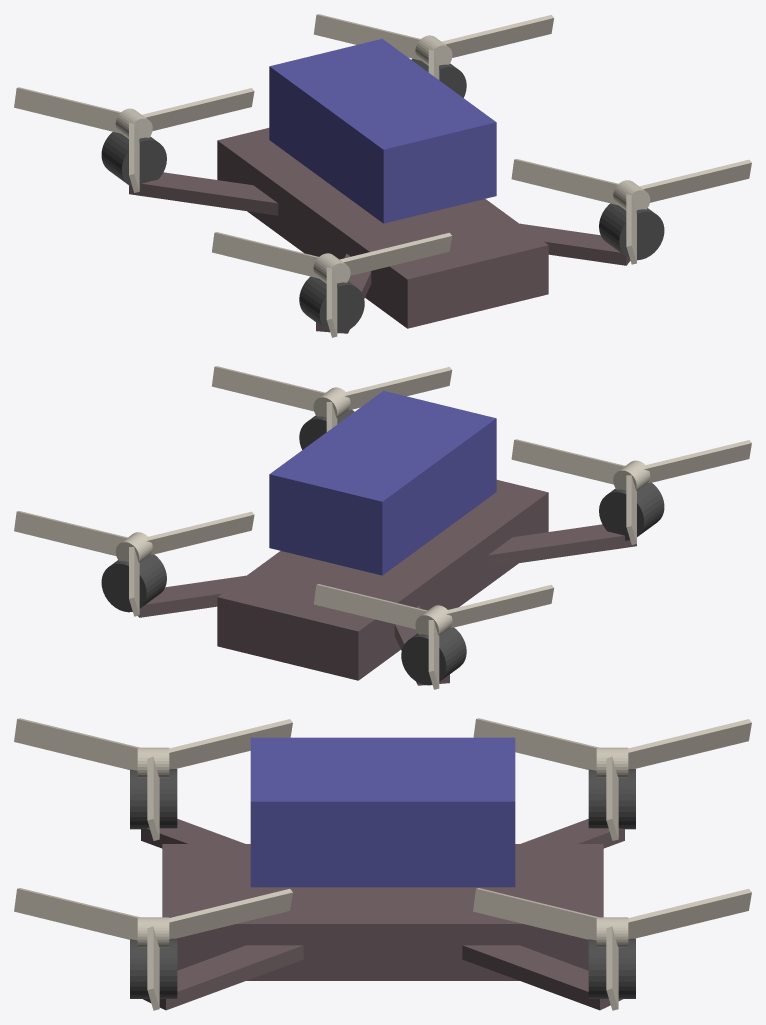
The model's file is Dreadnought.glb.
The picture shows the model from 3 angles, top to bottom: view 1: azimuth 30°, elevation 25°; view 2: azimuth 150°, elevation 25°; view 3: azimuth 270°, elevation 25°; orthographic projection. The views are drawn at different scales.
Parts seen in each view (by area): view 1: battery, frame_body, prop_2, prop_3, prop_0, prop_1, arm_3, motor_2, motor_0, motor_3, arm_0, motor_1; view 2: battery, frame_body, prop_3, prop_1, prop_2, prop_0, arm_2, motor_3, motor_1, motor_2, arm_1, motor_0; view 3: battery, frame_body, prop_0, prop_1, prop_2, prop_3, arm_1, arm_0, motor_2, motor_0, motor_1, motor_3 (+2 smaller).
Boxes of the visible parts, box(x1,y1,x2,y2) form: battery: box(269, 38, 496, 223); frame_body: box(217, 128, 548, 328); prop_2: box(212, 232, 452, 337); prop_3: box(14, 87, 254, 192); prop_0: box(511, 159, 751, 264); prop_1: box(313, 14, 553, 79); arm_3: box(129, 172, 278, 215); motor_2: box(299, 276, 364, 333); motor_0: box(599, 203, 664, 260); motor_3: box(101, 132, 166, 188); arm_0: box(520, 223, 630, 265); motor_1: box(411, 58, 466, 97); battery: box(269, 390, 496, 575); frame_body: box(217, 480, 548, 680); prop_3: box(314, 584, 553, 689); prop_1: box(14, 511, 254, 616); prop_2: box(511, 439, 751, 544); prop_0: box(211, 366, 452, 431); arm_2: box(487, 524, 636, 567); motor_3: box(401, 627, 466, 685); motor_1: box(101, 554, 166, 612); motor_2: box(599, 483, 664, 540); arm_1: box(138, 575, 245, 617); motor_0: box(299, 409, 354, 449); battery: box(250, 737, 515, 887); frame_body: box(162, 844, 603, 980); prop_0: box(14, 888, 292, 1010); prop_1: box(473, 888, 751, 1010); prop_2: box(14, 718, 292, 840); prop_3: box(473, 718, 751, 840); arm_1: box(462, 945, 622, 1010); arm_0: box(143, 945, 303, 1010); motor_2: box(130, 769, 177, 829); motor_0: box(130, 938, 177, 998); motor_1: box(588, 938, 635, 998); motor_3: box(588, 769, 635, 829).
Bounding box in the file's own units: 0.2041 × 0.06 × 0.2341.
